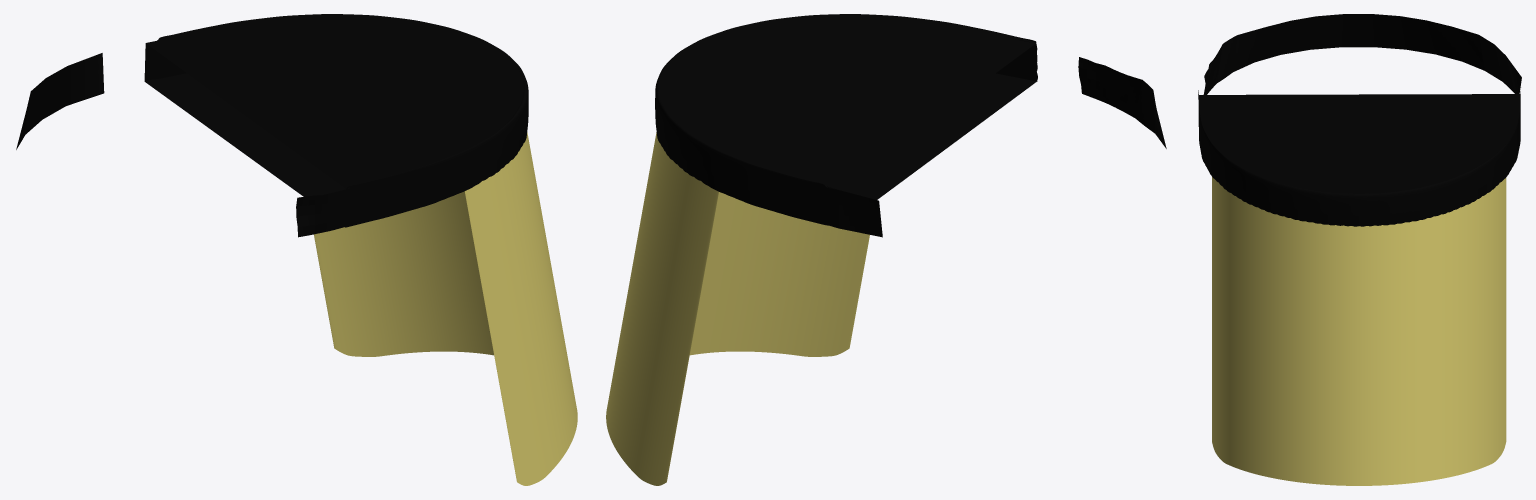
File: face shield.fbx
3 renders of one model, left to right at view 1: azimuth 30°, elevation 25°; view 2: azimuth 150°, elevation 25°; view 3: azimuth 270°, elevation 25°, orthographic. The views are drawn at different scales.
Visible parts, largest first — view 1: Circle, Circle.003; view 2: Circle, Circle.003; view 3: Circle.003, Circle.
Boxes of the visible parts, x1=… form: Circle: x1=16, y1=14, x2=528, y2=237; Circle.003: x1=314, y1=132, x2=577, y2=485; Circle: x1=655, y1=14, x2=1166, y2=237; Circle.003: x1=606, y1=132, x2=869, y2=485; Circle.003: x1=1212, y1=177, x2=1506, y2=485; Circle: x1=1198, y1=14, x2=1521, y2=226.
Size of the model in its own units: 247 by 165 by 168.
